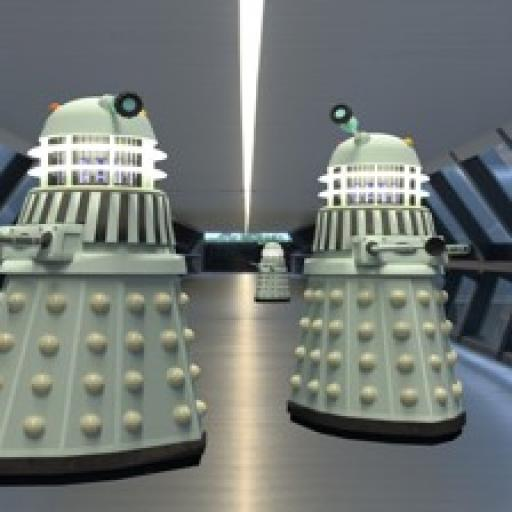dalek: (0, 87, 206, 480), (285, 79, 473, 453), (247, 232, 295, 308)
